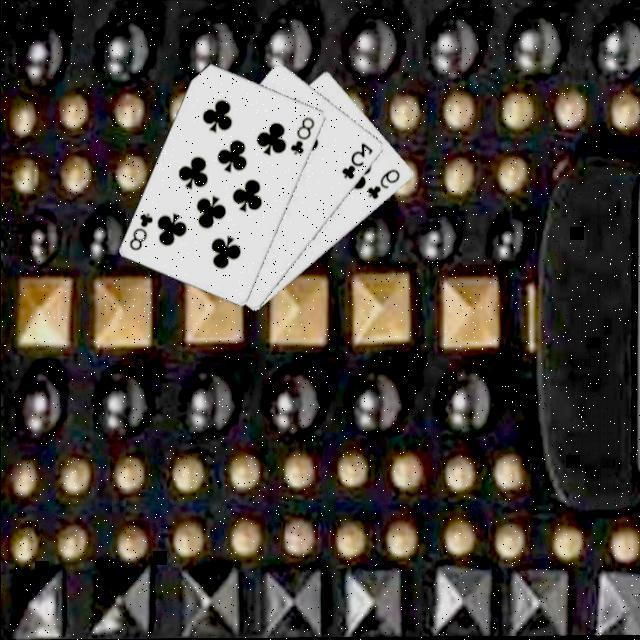3C: (336, 139, 374, 182)
8C: (124, 208, 155, 253), (286, 113, 316, 157)
9C: (362, 166, 401, 202)
